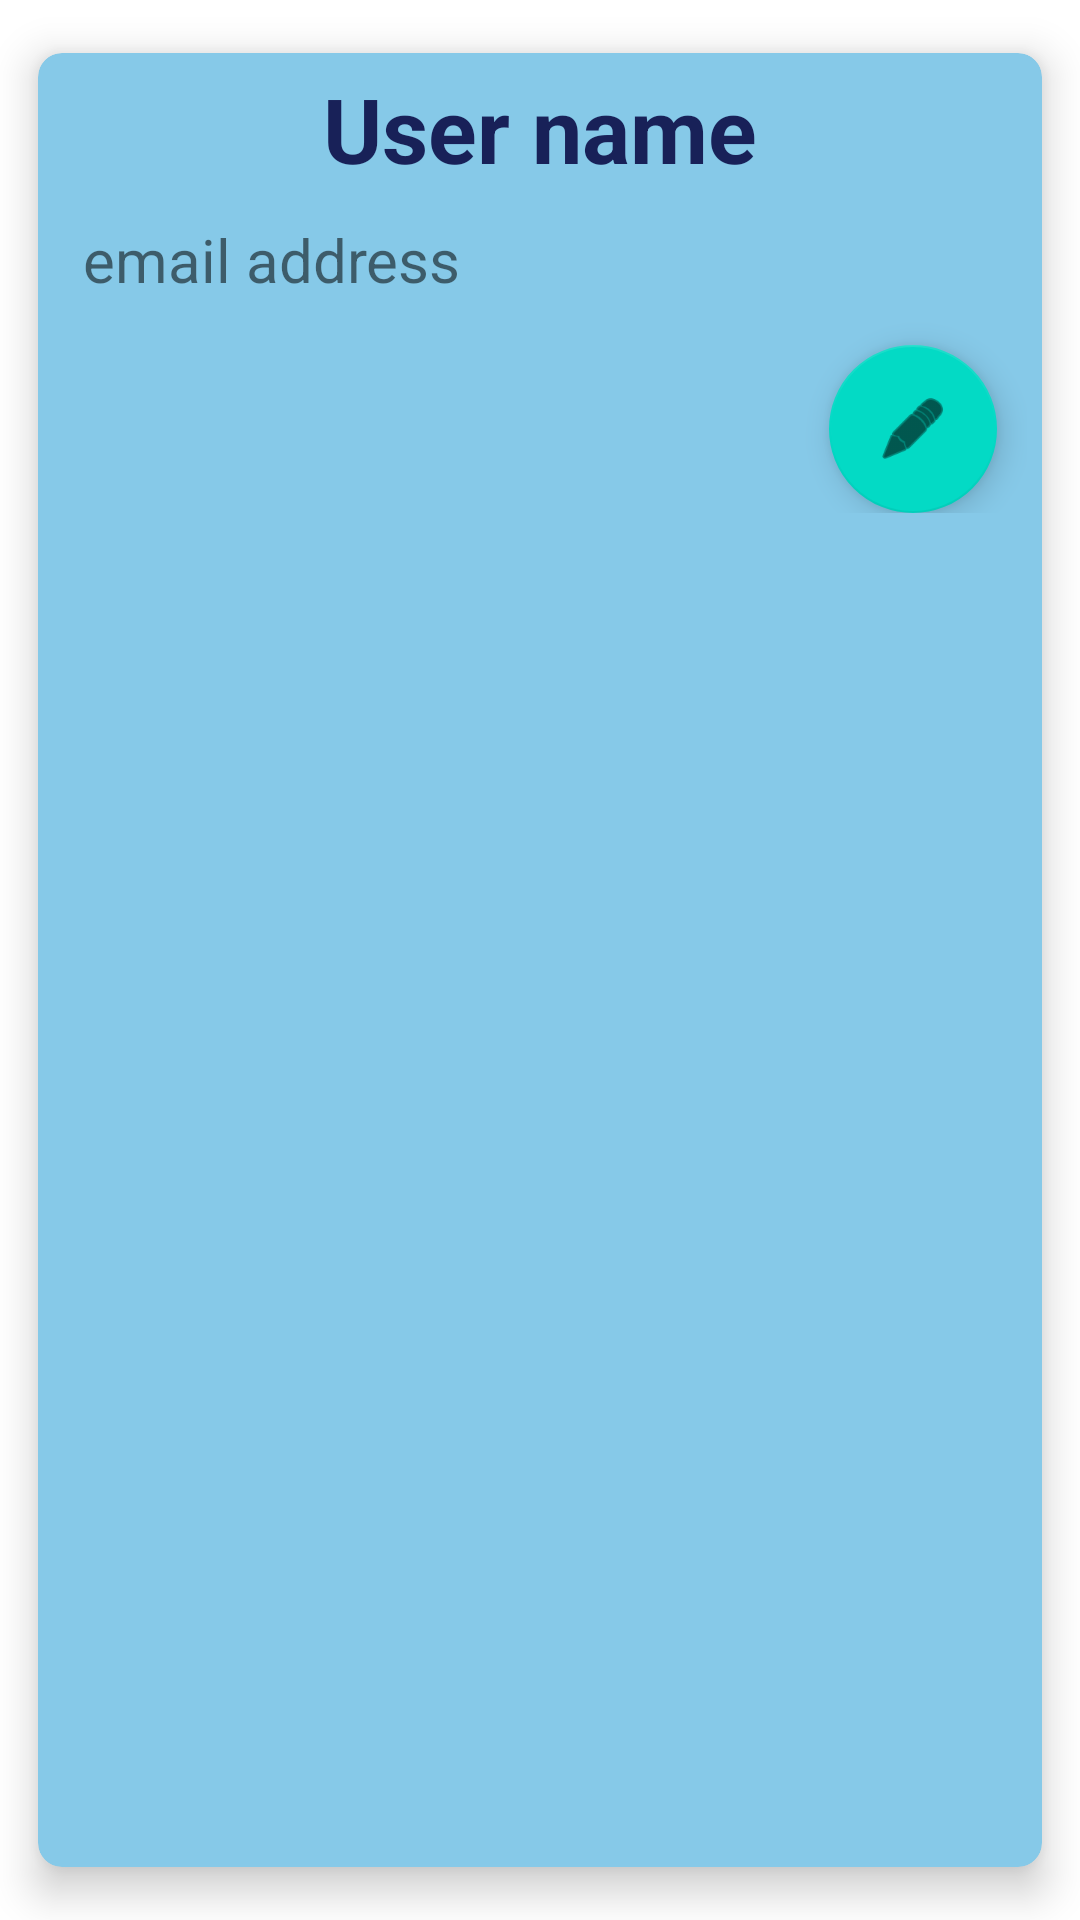

Named icons in this screenshot (1080x1920) and their centers, point (x, y):
edit: point (913, 429)
